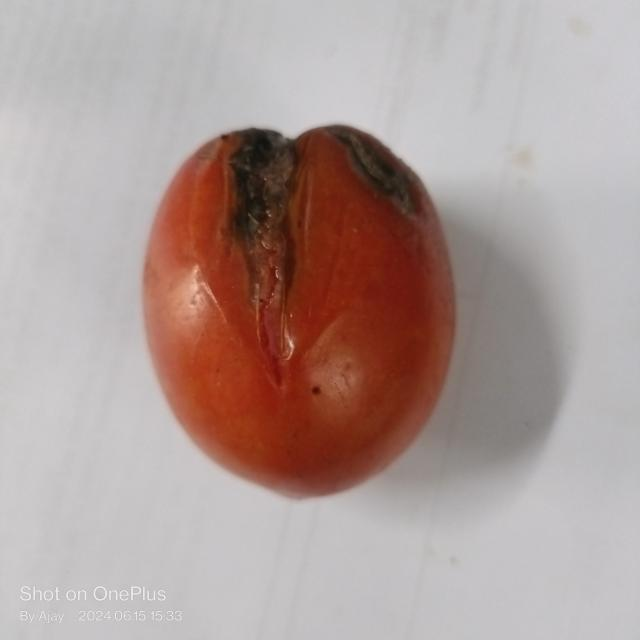Botrytis: (214, 129, 306, 370), (318, 125, 432, 206)
